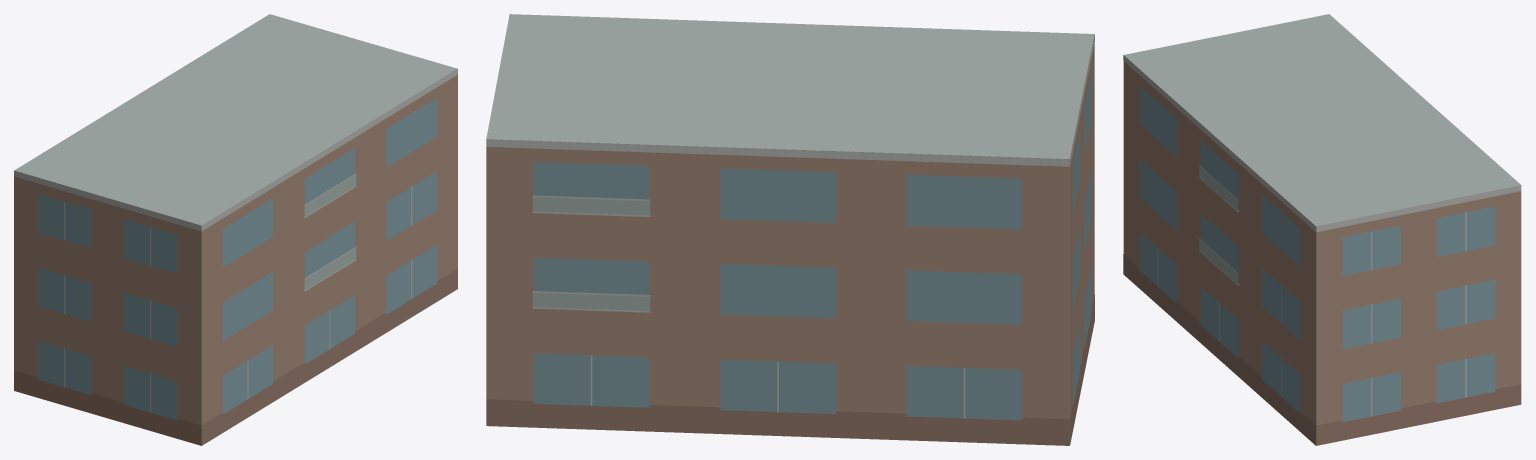
The model's file is survey-upis-32955907.glb.
3 renders of one model, left to right at view 1: azimuth 30°, elevation 25°; view 2: azimuth 150°, elevation 25°; view 3: azimuth 270°, elevation 25°, orthographic. The views are drawn at different scales.
Visible parts, largest first — view 1: survey-upis-32955907.tmp; view 2: survey-upis-32955907.tmp; view 3: survey-upis-32955907.tmp.
Boxes of the visible parts, <box> form: survey-upis-32955907.tmp: <box>14,14,457,445</box>; survey-upis-32955907.tmp: <box>486,14,1094,445</box>; survey-upis-32955907.tmp: <box>1123,14,1521,445</box>.
Size of the model in its own units: 19.01 by 9.15 by 15.05.
